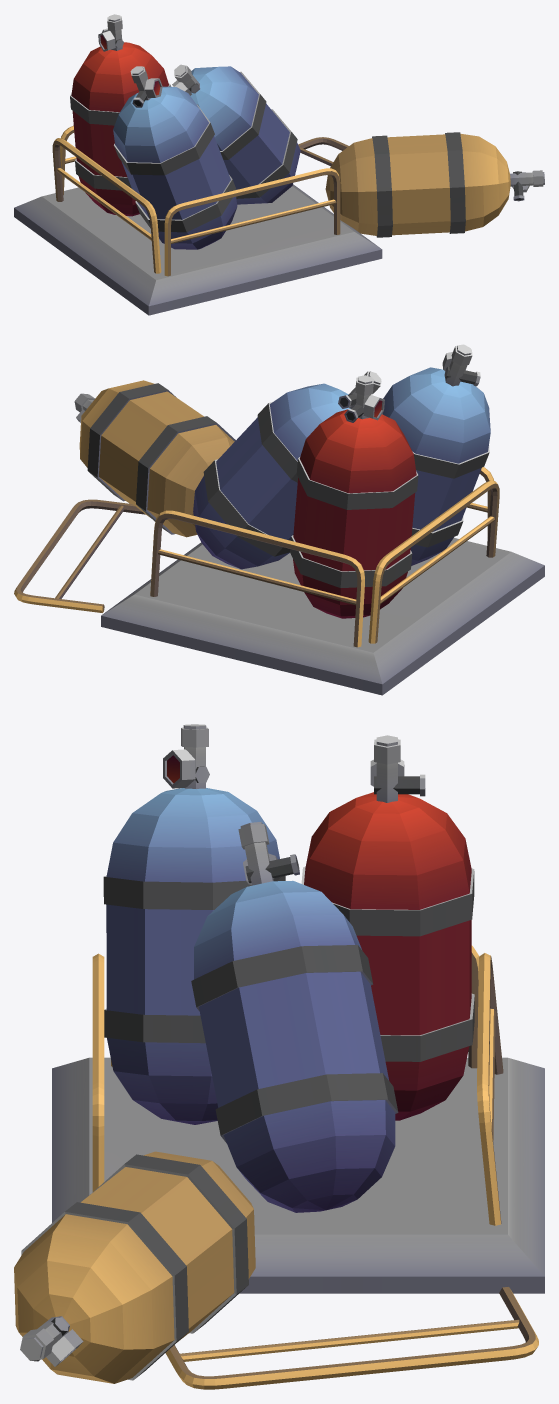
The model's file is oxygen tanks.glb.
3 views of the same model, one above another, from view 1: azimuth 30°, elevation 25°; view 2: azimuth 150°, elevation 25°; view 3: azimuth 270°, elevation 25° (orthographic). The views are drawn at different scales.
Parts seen in each view (by area): view 1: Cube, o2tank.003, o2tank.001, o2tank.002, o2tank, railing 1.003, railing 1.001, railing 1; view 2: Cube, o2tank, o2tank.003, o2tank.002, o2tank.001, railing 1.002, railing 1.001, railing 1; view 3: Cube, o2tank.002, o2tank.003, o2tank, o2tank.001, railing 1, railing 1.002, railing 1.003, railing 1.001.
Boxes of the visible parts, <box> form: Cube: <box>14,184,382,315</box>; o2tank.003: <box>325,132,544,237</box>; o2tank.001: <box>113,66,237,249</box>; o2tank.002: <box>172,64,300,204</box>; o2tank: <box>70,14,170,216</box>; railing 1.003: <box>164,168,340,276</box>; railing 1.001: <box>52,138,161,273</box>; railing 1: <box>298,137,348,166</box>; Cube: <box>101,538,544,695</box>; o2tank: <box>290,375,418,618</box>; o2tank.003: <box>74,380,235,537</box>; o2tank.002: <box>193,371,381,569</box>; o2tank.001: <box>382,344,490,565</box>; railing 1.002: <box>150,510,364,647</box>; railing 1.001: <box>368,480,499,643</box>; railing 1: <box>14,499,145,612</box>; Cube: <box>52,1057,544,1293</box>; o2tank.002: <box>191,822,398,1212</box>; o2tank.003: <box>14,1151,255,1383</box>; o2tank: <box>301,735,474,1120</box>; o2tank.001: <box>103,724,285,1124</box>; railing 1: <box>165,1287,538,1389</box>; railing 1.002: <box>477,953,503,1225</box>; railing 1.003: <box>92,953,104,1191</box>; railing 1.001: <box>111,945,479,1068</box>.
Size of the model in its own units: 1.68 by 0.8974 by 1.08.
1 material, 1 textured.
